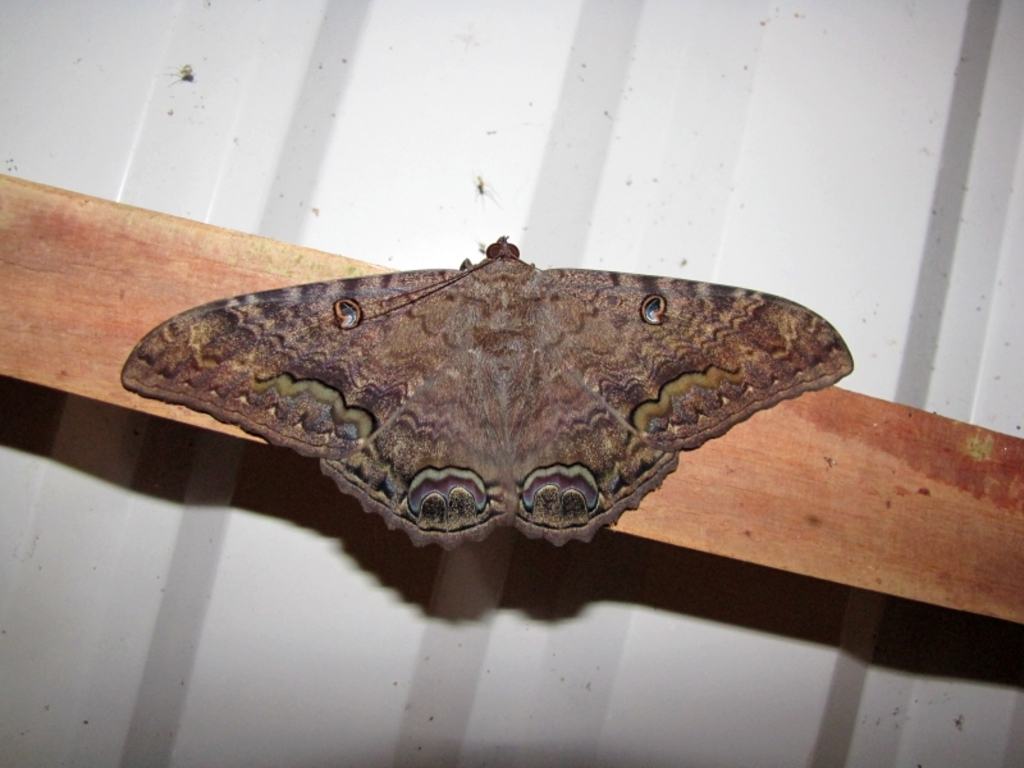Butterfly: (109, 229, 859, 559)
